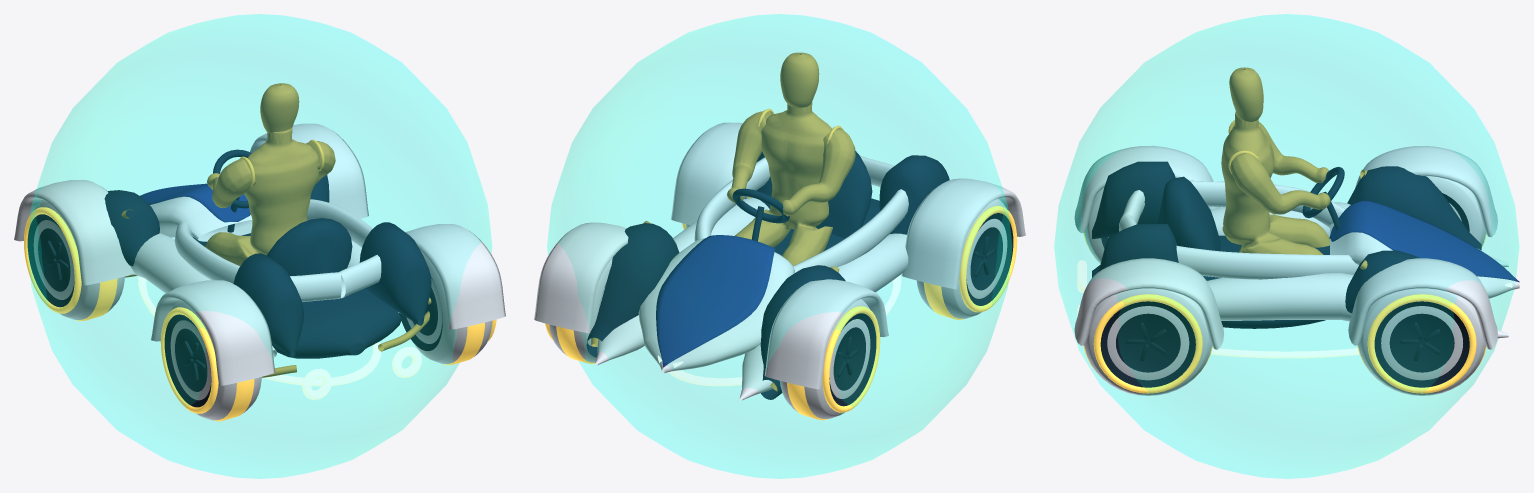
File: juris.glb
The picture shows the model from 3 angles, left to right: view 1: azimuth 30°, elevation 25°; view 2: azimuth 150°, elevation 25°; view 3: azimuth 270°, elevation 25°; orthographic projection.
Parts seen in each view (by area): view 1: juris:aegis-shield, juris:coachwork-batch.001, juris:coachwork-batch, juris:torso, juris:rounded-wheel-shell.003, juris:recessed-colored-hub, juris:recessed-colored-hub.002, juris:rounded-wheel-shell, juris:rounded-wheel-shell.002, juris:head-mesh, juris:bonnet-enamel-inlay, juris:wheel-light-ring.002 (+11 smaller); view 2: juris:aegis-shield, juris:coachwork-batch.001, juris:coachwork-batch, juris:bonnet-enamel-inlay, juris:torso, juris:arm-l-mesh, juris:recessed-colored-hub, juris:recessed-colored-hub.002, juris:rounded-wheel-shell.002, juris:rounded-wheel-shell, juris:head-mesh, juris:arm-r-mesh (+8 smaller); view 3: juris:aegis-shield, juris:coachwork-batch.001, juris:coachwork-batch, juris:torso, juris:bonnet-enamel-inlay, juris:recessed-colored-hub.001, juris:recessed-colored-hub.003, juris:rounded-wheel-shell.003, juris:rounded-wheel-shell.001, juris:arm-r-mesh, juris:wheel-light-ring.001, juris:wheel-light-ring.003 (+6 smaller).
Boxes of the visible parts, box(x1,y1,x2,y2) form: juris:aegis-shield: box(27, 14, 491, 478); juris:coachwork-batch.001: box(14, 123, 505, 385); juris:coachwork-batch: box(104, 174, 431, 358); juris:torso: box(205, 128, 319, 265); juris:rounded-wheel-shell.003: box(406, 250, 492, 363); juris:recessed-colored-hub: box(27, 214, 74, 307); juris:recessed-colored-hub.002: box(164, 314, 211, 407); juris:rounded-wheel-shell: box(33, 200, 124, 319); juris:rounded-wheel-shell.002: box(170, 300, 261, 420); juris:head-mesh: box(260, 83, 299, 133); juris:bonnet-enamel-inlay: box(140, 183, 250, 222); juris:wheel-light-ring.002: box(160, 307, 218, 413); juris:aegis-shield: box(547, 14, 1011, 478); juris:coachwork-batch.001: box(534, 122, 1025, 400); juris:coachwork-batch: box(586, 151, 949, 399); juris:bonnet-enamel-inlay: box(656, 235, 775, 367); juris:torso: box(735, 101, 832, 265); juris:arm-l-mesh: box(781, 129, 855, 216); juris:recessed-colored-hub: box(829, 313, 876, 406); juris:recessed-colored-hub.002: box(966, 213, 1013, 305); juris:rounded-wheel-shell.002: box(916, 198, 1007, 318); juris:rounded-wheel-shell: box(780, 299, 870, 418); juris:head-mesh: box(780, 52, 819, 107); juris:arm-r-mesh: box(727, 111, 770, 203); juris:aegis-shield: box(1054, 14, 1519, 478); juris:coachwork-batch.001: box(1074, 145, 1519, 349); juris:coachwork-batch: box(1092, 161, 1481, 328); juris:torso: box(1221, 112, 1329, 254); juris:bonnet-enamel-inlay: box(1329, 200, 1519, 282); juris:recessed-colored-hub.001: box(1374, 301, 1469, 387); juris:recessed-colored-hub.003: box(1100, 301, 1195, 387); juris:rounded-wheel-shell.003: box(1084, 288, 1212, 395); juris:rounded-wheel-shell.001: box(1358, 288, 1485, 395); juris:arm-r-mesh: box(1230, 153, 1330, 214); juris:wheel-light-ring.001: box(1367, 294, 1476, 393); juris:wheel-light-ring.003: box(1093, 294, 1202, 393).
Bounding box in the file's own units: 4.3 × 4.3 × 4.3.
